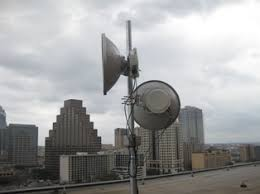ba: (128, 71, 187, 144), (88, 32, 131, 98)
